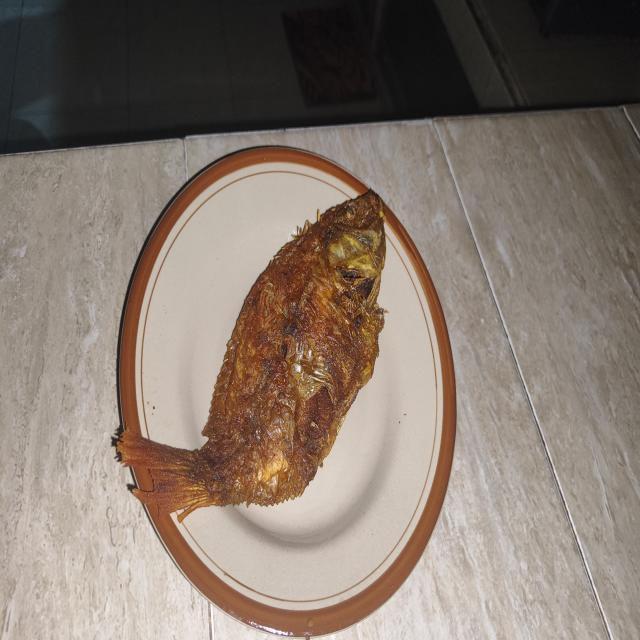ikan_mujair: (113, 189, 386, 522)
